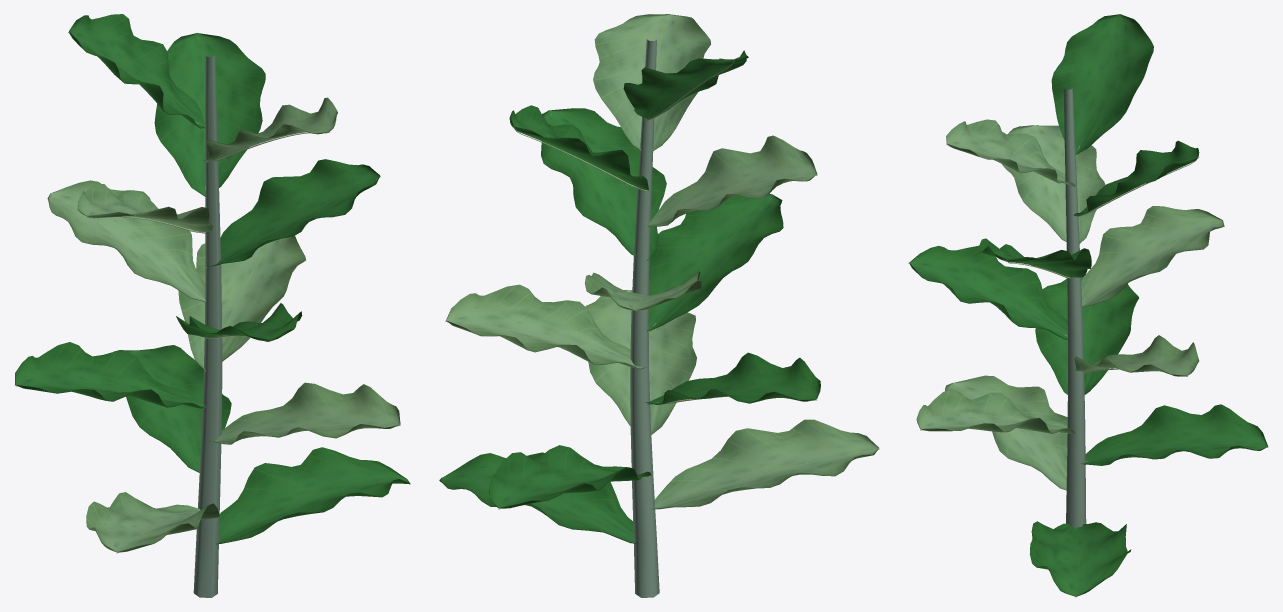
The model's file is kale-default-mobile.glb.
The picture shows the model from 3 angles, left to right: view 1: azimuth 30°, elevation 25°; view 2: azimuth 150°, elevation 25°; view 3: azimuth 270°, elevation 25°; orthographic projection. The views are drawn at different scales.
Parts seen in each view (by area): view 1: Kale · Default; view 2: Kale · Default; view 3: Kale · Default.
Part boxes in pixels (box(x1,y1,x2,y2)): Kale · Default: box(14, 14, 410, 597); Kale · Default: box(439, 14, 879, 597); Kale · Default: box(908, 14, 1268, 597).
Size of the model in its own units: 0.5016 by 0.7197 by 0.464.
Materials: 4 (2 with a texture image).
